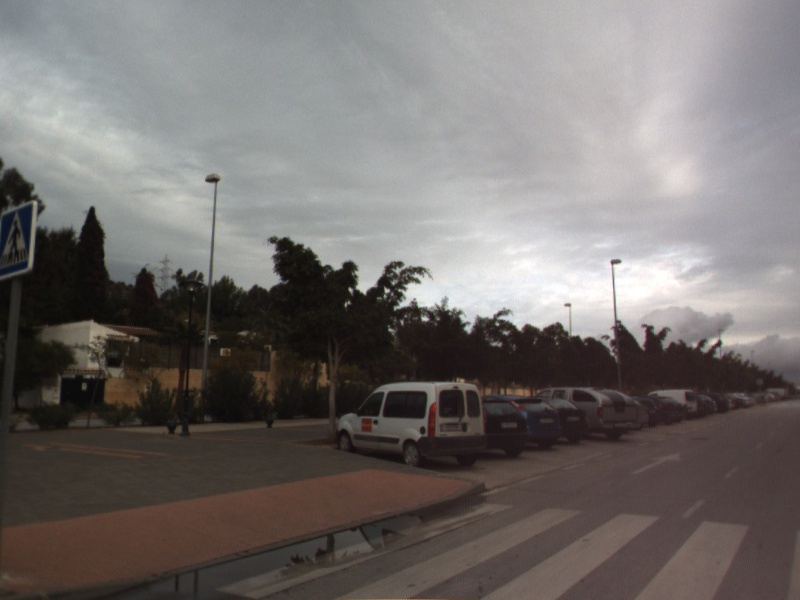STRAIGHT: (630, 450, 683, 476)
